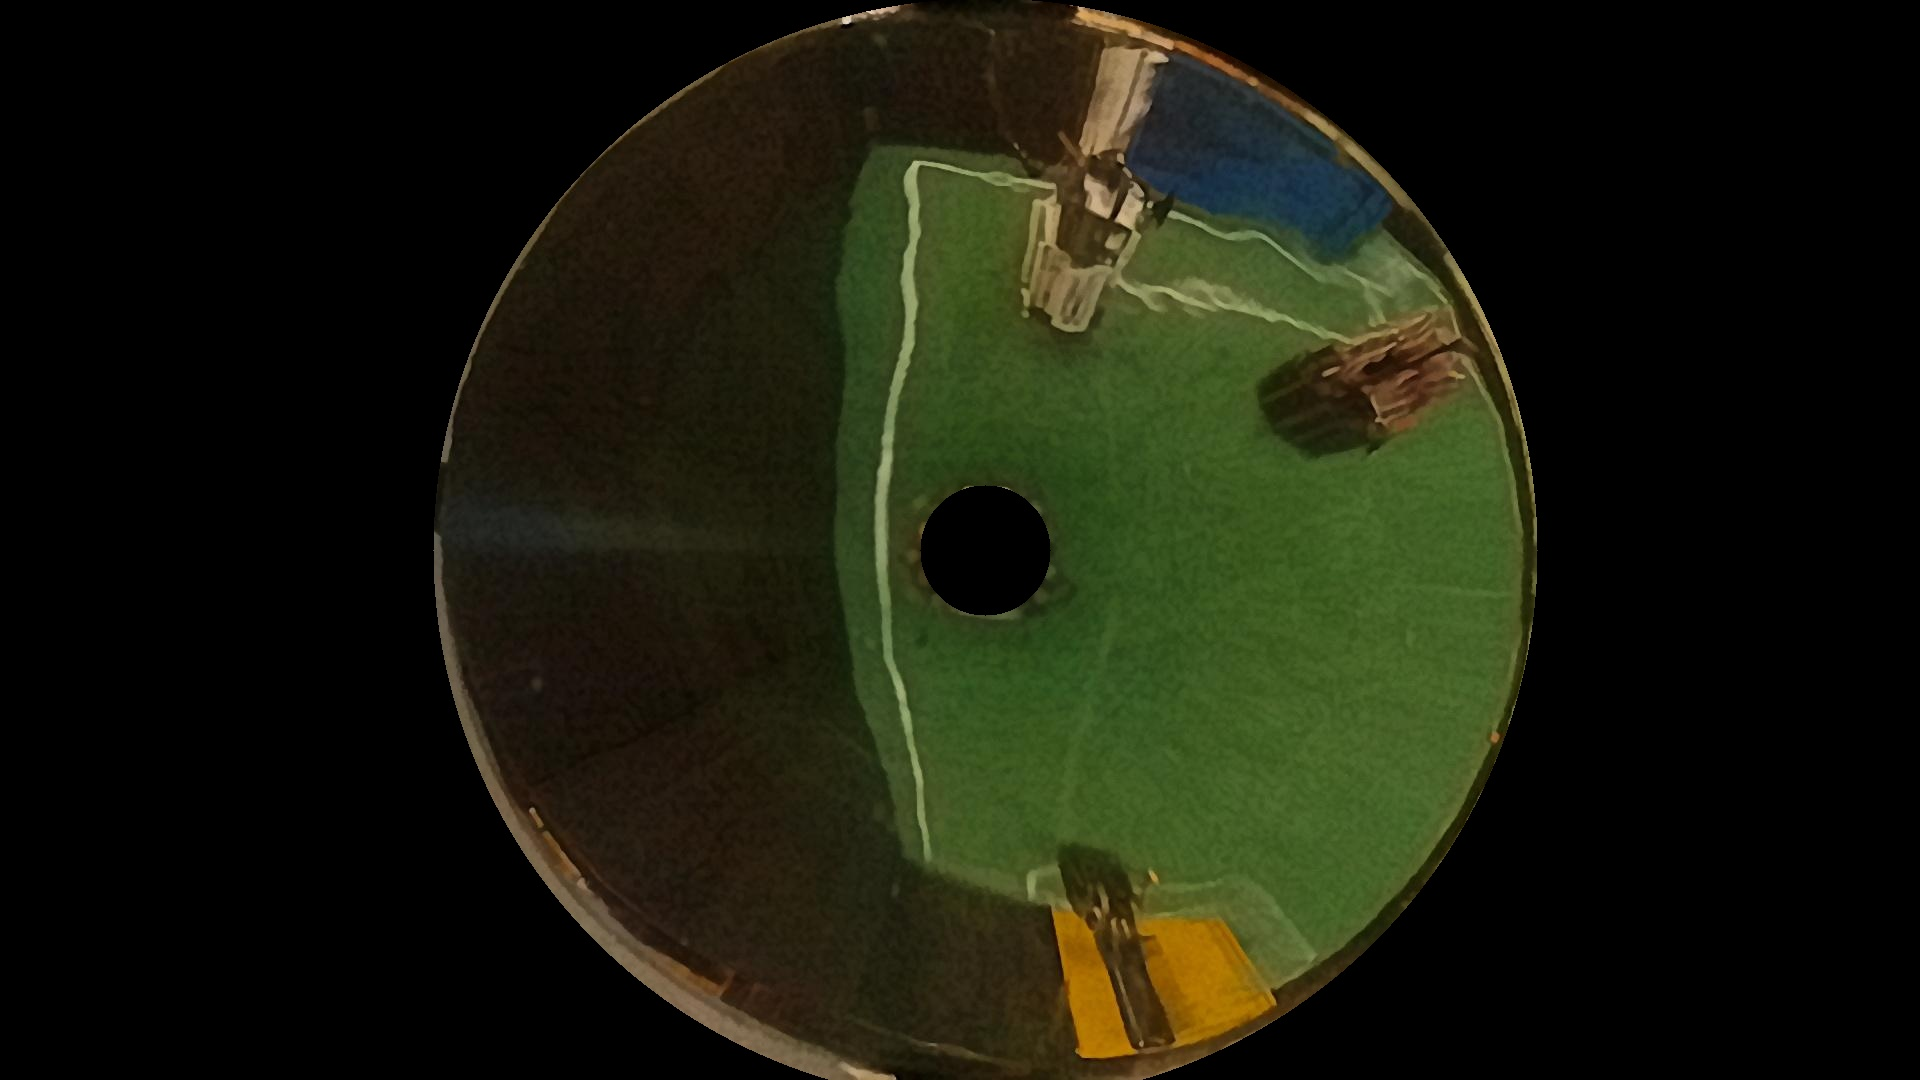blue-goal: (1162, 49, 1395, 276), (1044, 911, 1292, 1034)
robots: (1250, 309, 1485, 462), (1027, 69, 1170, 316), (1047, 841, 1182, 1043)
